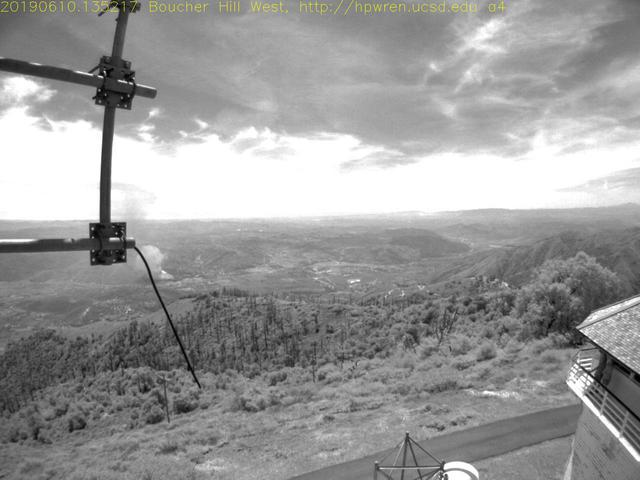smoke: (135, 199, 177, 286)
